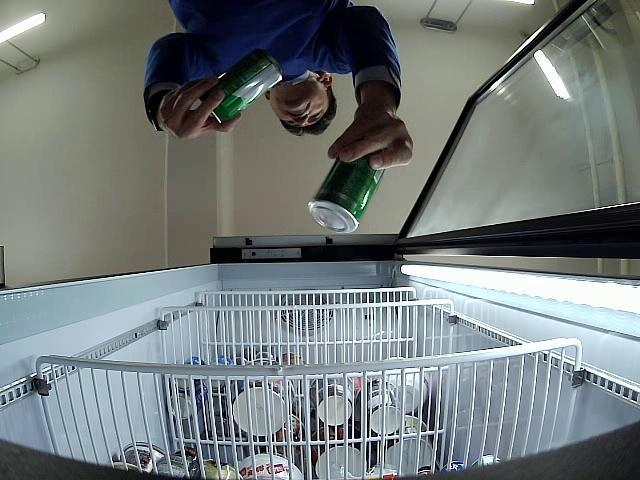12_chilsungCider: (309, 149, 385, 232), (202, 50, 282, 122)
